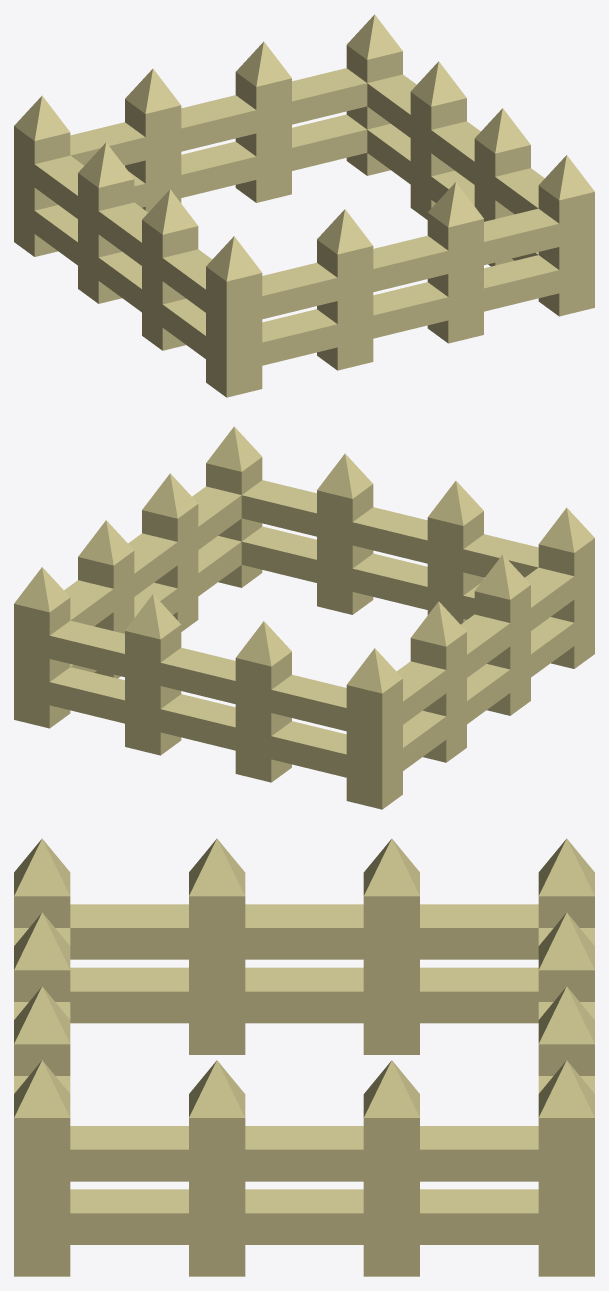
File: Fence.fbx
The picture shows the model from 3 angles, top to bottom: view 1: azimuth 30°, elevation 25°; view 2: azimuth 150°, elevation 25°; view 3: azimuth 270°, elevation 25°; orthographic projection. The views are drawn at different scales.
Parts seen in each view (by area): view 1: FenceFull; view 2: FenceFull; view 3: FenceFull.
Boxes of the visible parts, <box> form: FenceFull: <box>14,14,594,397</box>; FenceFull: <box>14,426,594,809</box>; FenceFull: <box>14,838,594,1276</box>.
Size of the model in its own units: 83.71 by 32.54 by 83.71.
